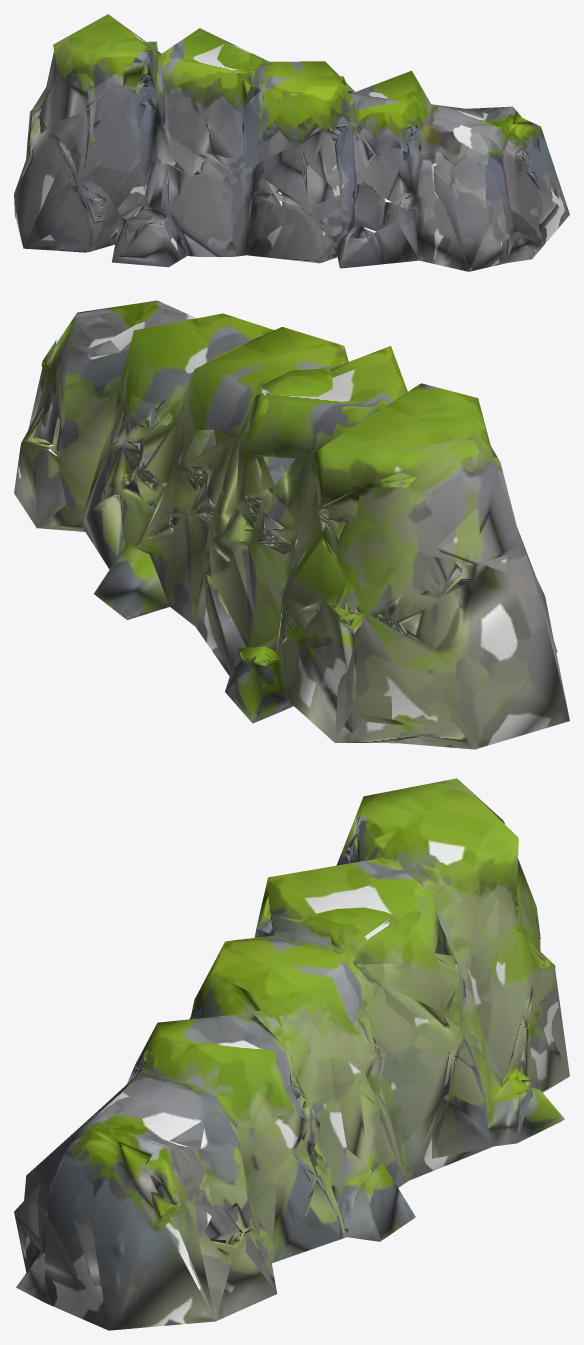
File: cliff_ridge_grass.glb
3 views of the same model, one above another, from view 1: azimuth 30°, elevation 25°; view 2: azimuth 150°, elevation 25°; view 3: azimuth 270°, elevation 25° (orthographic). The views are drawn at different scales.
Parts seen in each view (by area): view 1: BakeLow; view 2: BakeLow; view 3: BakeLow.
Part boxes in pixels (bbox=[...]): BakeLow: bbox=[14, 14, 569, 271]; BakeLow: bbox=[14, 300, 569, 749]; BakeLow: bbox=[14, 778, 569, 1330].
Size of the model in its own units: 0.9261 by 0.373 by 0.6804.
1 material, 1 textured.
